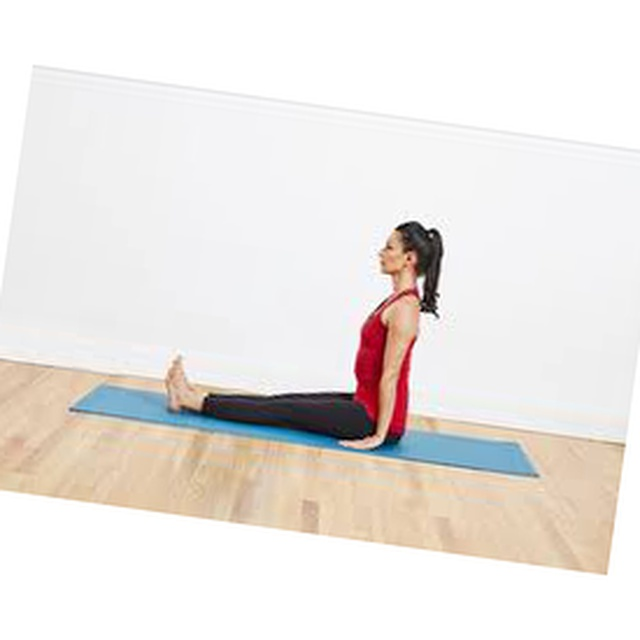Staff_Pose: (164, 219, 446, 453)
